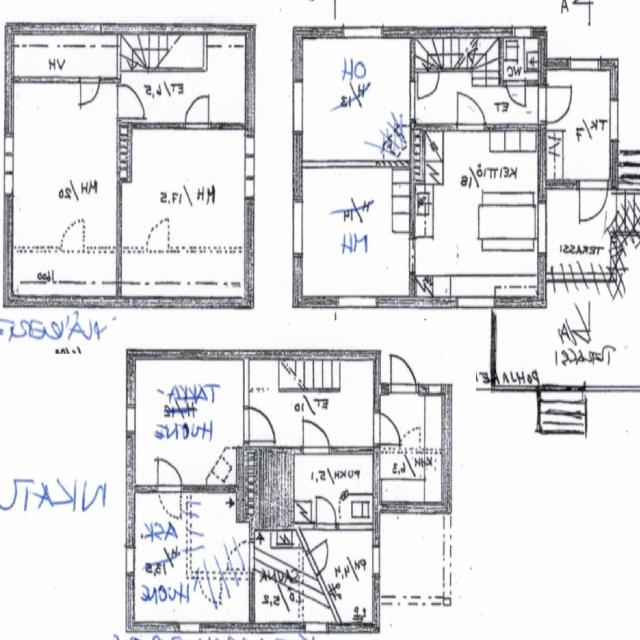door: (579, 179, 608, 226), (539, 87, 573, 121), (307, 540, 337, 577), (391, 352, 417, 394), (244, 407, 276, 441), (458, 90, 485, 130), (304, 413, 329, 453), (374, 413, 405, 444), (117, 86, 147, 118), (158, 454, 182, 492), (186, 93, 209, 129), (316, 497, 336, 529), (80, 76, 100, 108), (418, 68, 439, 98), (506, 80, 525, 110)
